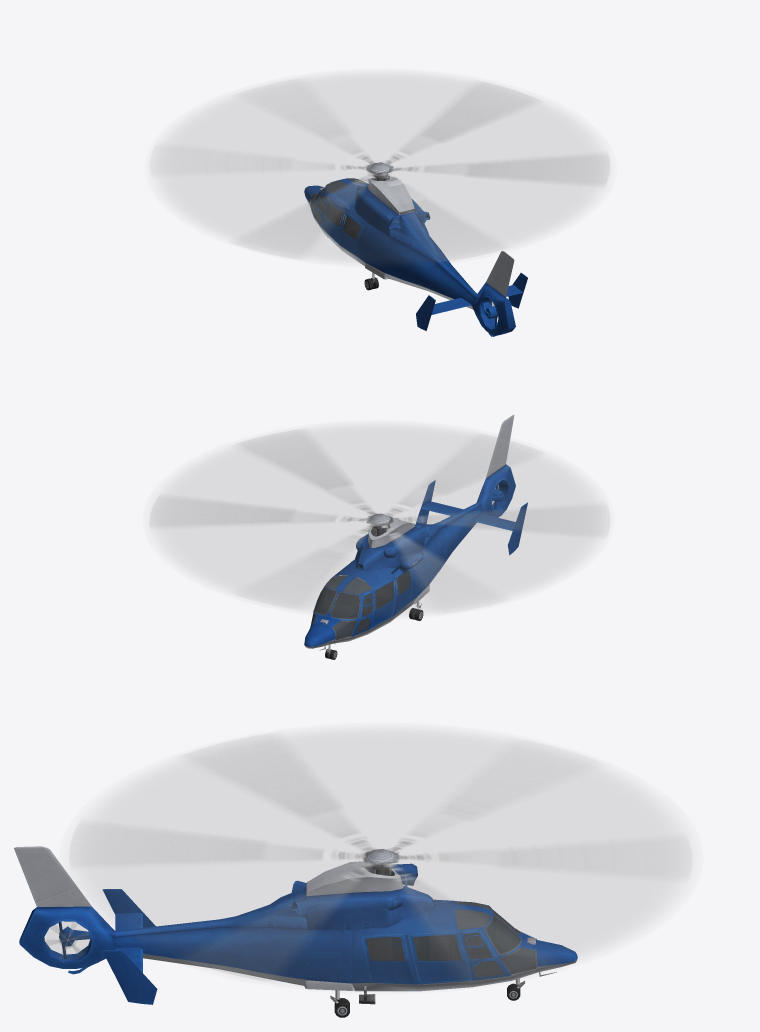
The model's file is Eurocopter_AS-365_-_Flying.glb.
The picture shows the model from 3 angles, top to bottom: view 1: azimuth 30°, elevation 25°; view 2: azimuth 150°, elevation 25°; view 3: azimuth 270°, elevation 25°; orthographic projection. The views are drawn at different scales.
Visible parts, largest first — view 1: Eurocopter_AS365_Flying__LOD4; view 2: Eurocopter_AS365_Flying__LOD4; view 3: Eurocopter_AS365_Flying__LOD4.
Boxes of the visible parts, bbox=[...] form: Eurocopter_AS365_Flying__LOD4: bbox=[150, 75, 609, 336]; Eurocopter_AS365_Flying__LOD4: bbox=[149, 415, 609, 659]; Eurocopter_AS365_Flying__LOD4: bbox=[14, 731, 692, 1017].
Size of the model in its own units: 18.38 by 4.26 by 18.41.
3 materials, 3 textured.
